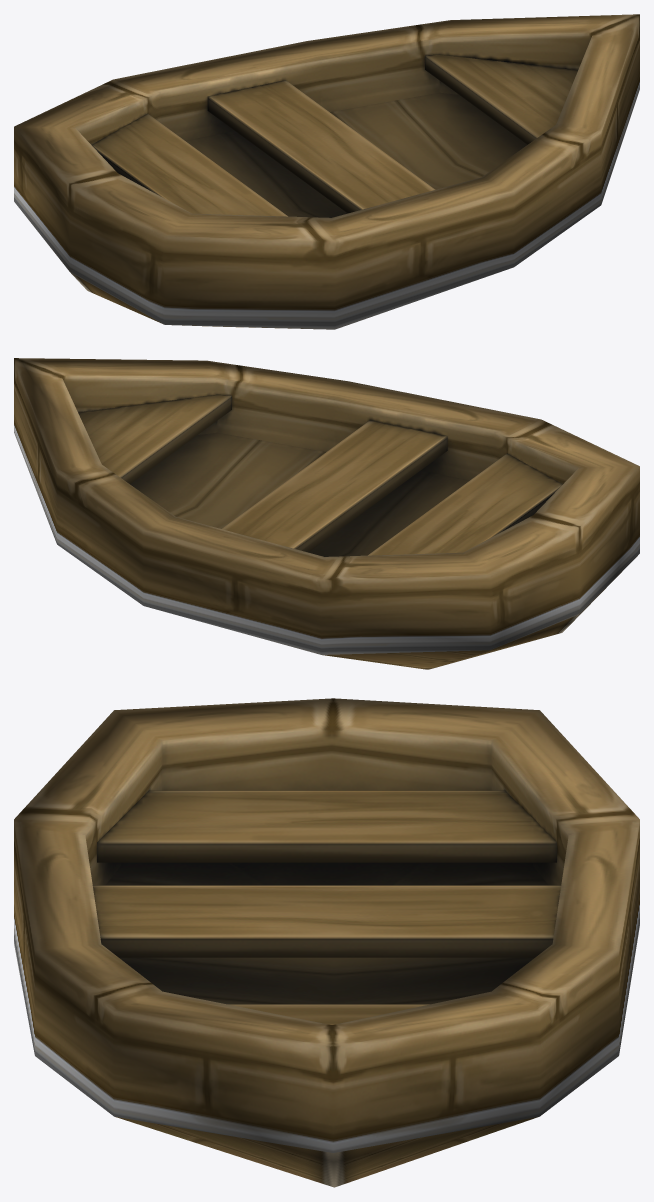
Rendered from M_Boat.fbx.
The picture shows the model from 3 angles, top to bottom: view 1: azimuth 30°, elevation 25°; view 2: azimuth 150°, elevation 25°; view 3: azimuth 270°, elevation 25°; orthographic projection. The views are drawn at different scales.
Parts seen in each view (by area): view 1: M_Boat; view 2: M_Boat; view 3: M_Boat.
Boxes of the visible parts, x1,y1,x2,y2 form: M_Boat: (14, 14, 639, 329); M_Boat: (14, 358, 639, 669); M_Boat: (14, 698, 639, 1187).
Bounding box in the file's own units: 4.3 × 1.52 × 2.9.
